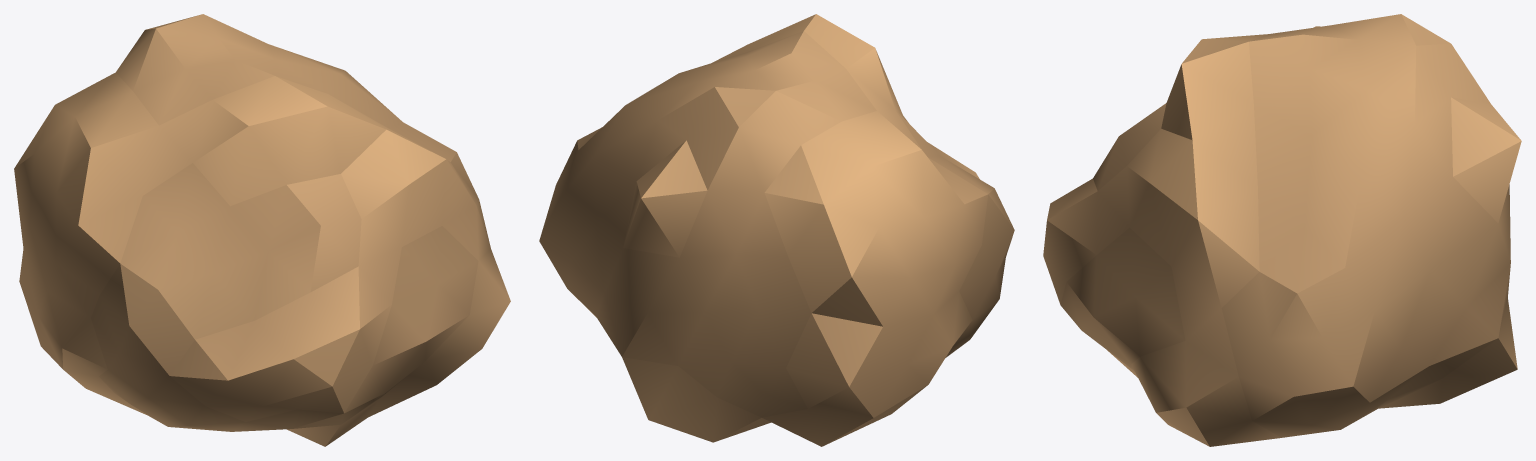
The model's file is Rock_3_Q_Sand.glb.
3 views of the same model, side by side, from view 1: azimuth 30°, elevation 25°; view 2: azimuth 150°, elevation 25°; view 3: azimuth 270°, elevation 25° (orthographic). The views are drawn at different scales.
Parts seen in each view (by area): view 1: Rock_3_Q_Color1; view 2: Rock_3_Q_Color1; view 3: Rock_3_Q_Color1.
Boxes of the visible parts, x1=… form: Rock_3_Q_Color1: x1=14, y1=14, x2=510, y2=446; Rock_3_Q_Color1: x1=539, y1=14, x2=1014, y2=446; Rock_3_Q_Color1: x1=1043, y1=14, x2=1521, y2=446.
Size of the model in its own units: 4.65 by 3.72 by 4.48.
Materials: 1 (1 with a texture image).
